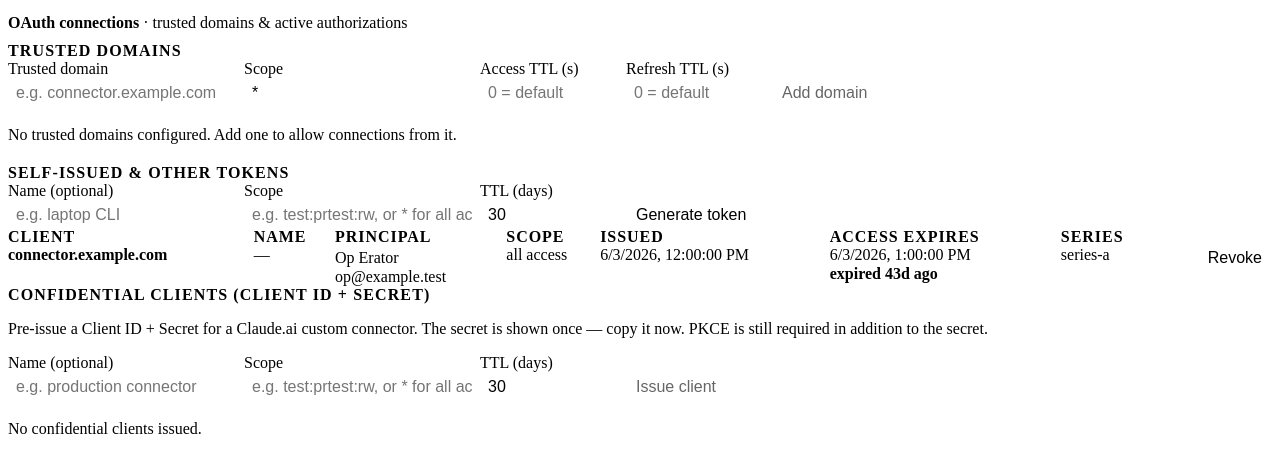
Test: ConnectionsPage › revoke is inline-confirm gated, targets one series, and drops the row on success
Expected: the text "connector.example.com" is shown, [8,246,254,286]
# First click only arms the confirm (no revoke yet) — destructive, gated.
Step 1. Click the button "Revoke" → (1235, 258), box [1198,246,1272,270]
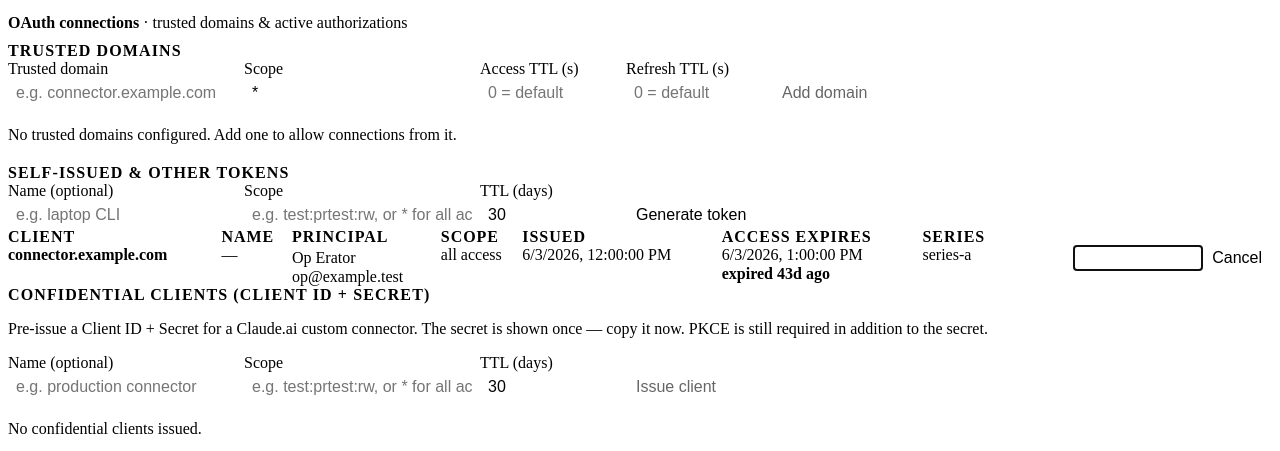
Step 2. Click the button "Confirm revoke" → (1138, 258), box [1074,246,1202,270]
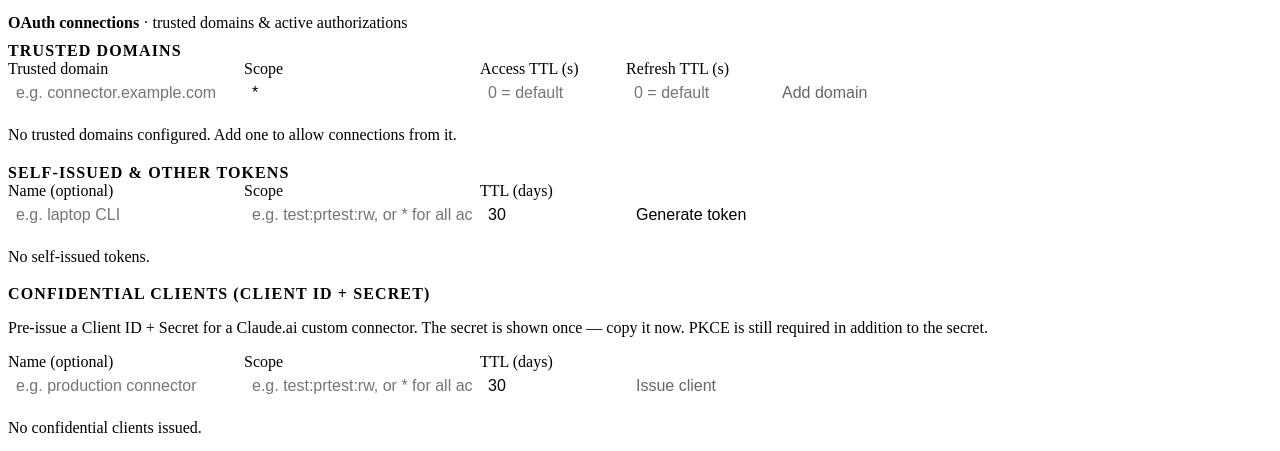
Expected: the text "No self-issued tokens." is shown, [8,248,150,265]
